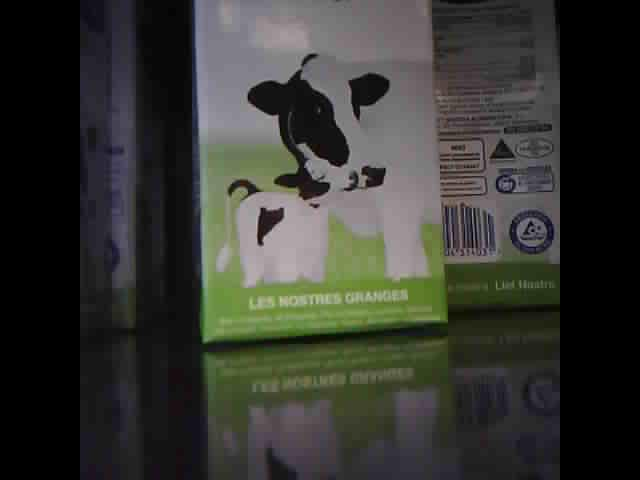leche: (192, 1, 437, 345), (430, 3, 560, 316), (112, 2, 145, 330), (81, 3, 111, 334)
